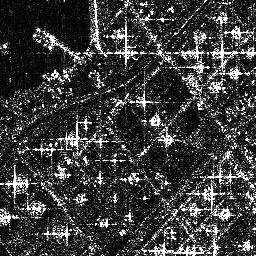ship: (31, 31, 55, 51)
